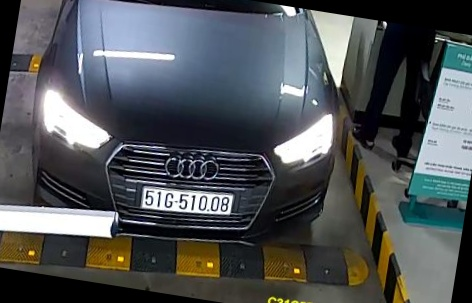plate: (138, 186, 240, 224)
